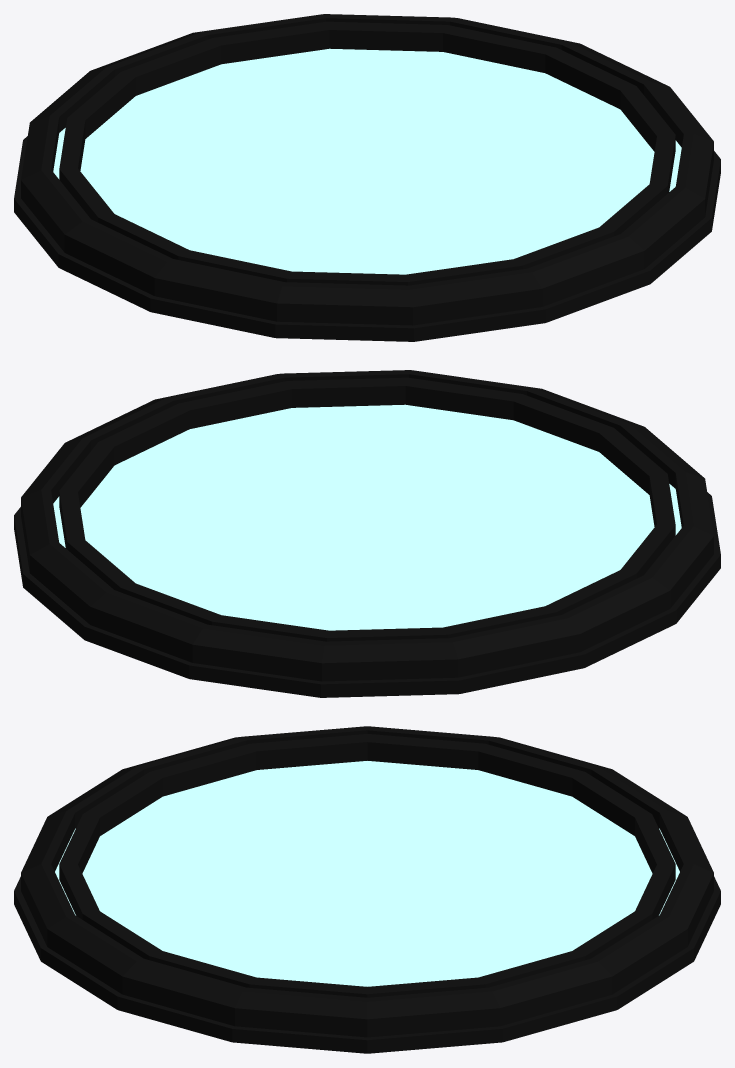
File: SM_Spawner01.fbx
The picture shows the model from 3 angles, top to bottom: view 1: azimuth 30°, elevation 25°; view 2: azimuth 150°, elevation 25°; view 3: azimuth 270°, elevation 25°; orthographic projection.
Parts seen in each view (by area): view 1: SM_Spawner; view 2: SM_Spawner; view 3: SM_Spawner.
Part boxes in pixels (box(x1,y1,x2,y2)): SM_Spawner: box(14, 14, 720, 341); SM_Spawner: box(14, 370, 720, 697); SM_Spawner: box(14, 726, 720, 1053).
Size of what is drawn, in the model's own units: 2.04 by 0.1285 by 2.04.
